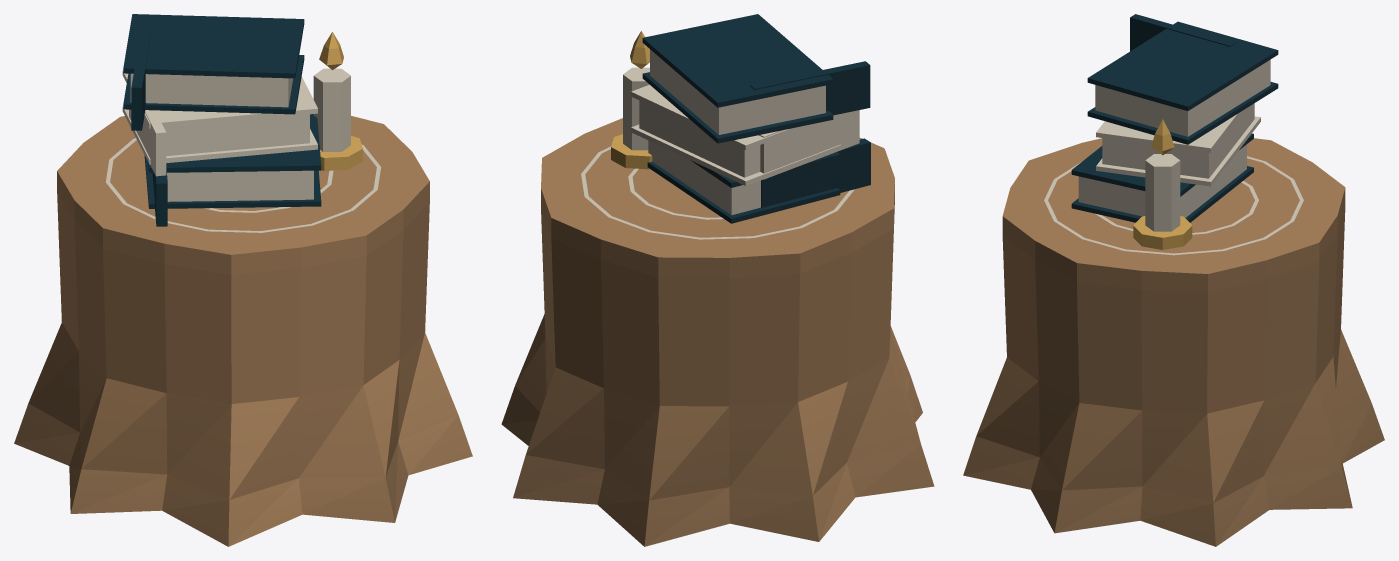
File: book-stack.glb
3 views of the same model, side by side, from view 1: azimuth 30°, elevation 25°; view 2: azimuth 150°, elevation 25°; view 3: azimuth 270°, elevation 25° (orthographic). The views are drawn at different scales.
Visible parts, largest first — view 1: root_mesh, pulse_mesh; view 2: root_mesh; view 3: root_mesh, pulse_mesh.
Part boxes in pixels (box(x1,y1,x2,y2)): root_mesh: box(14, 14, 472, 546); pulse_mesh: box(319, 32, 343, 69); root_mesh: box(501, 14, 934, 546); root_mesh: box(963, 14, 1384, 546); pulse_mesh: box(1151, 119, 1174, 155).
Size of the model in its own units: 1 by 1 by 1.
